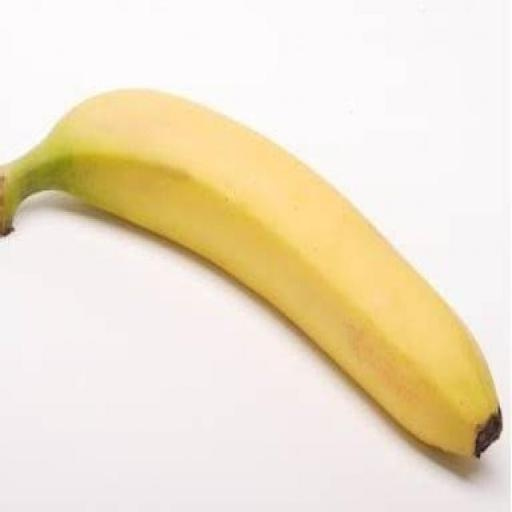fruit: (0, 91, 501, 455)
